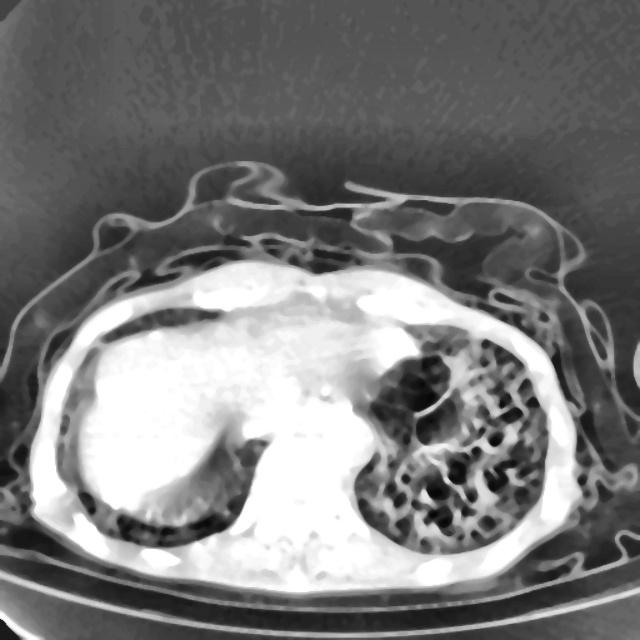covid: (1, 161, 638, 601)
